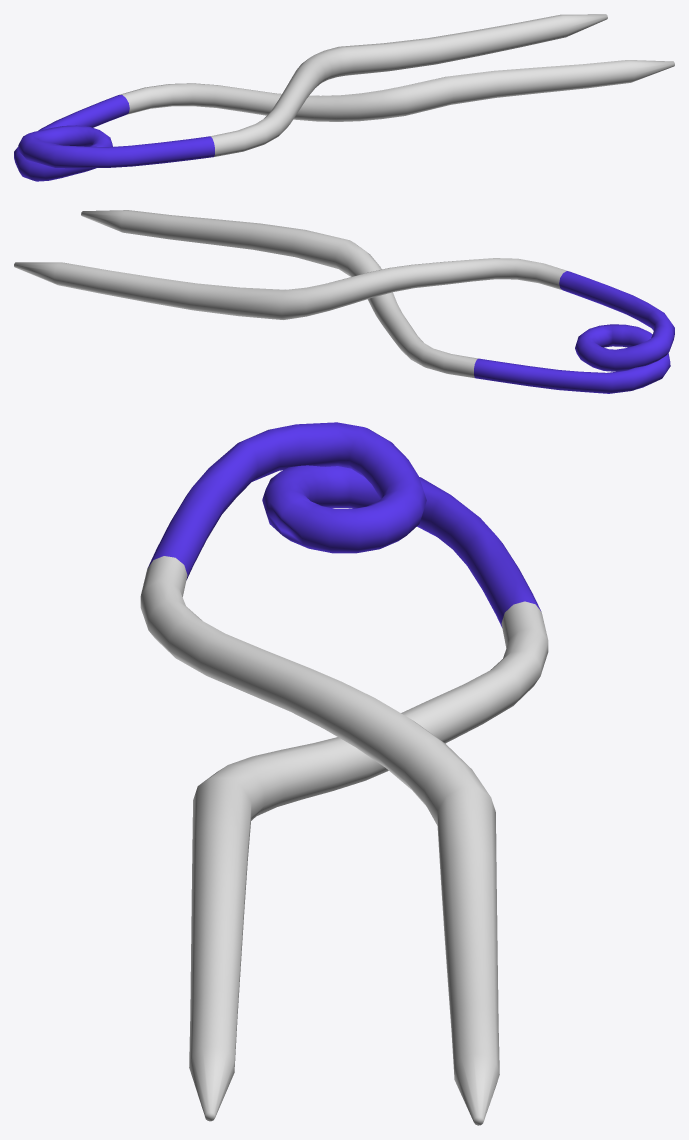
File: clip.fbx
The picture shows the model from 3 angles, top to bottom: view 1: azimuth 30°, elevation 25°; view 2: azimuth 150°, elevation 25°; view 3: azimuth 270°, elevation 25°; orthographic projection. The views are drawn at different scales.
Parts seen in each view (by area): view 1: Cylinder.007; view 2: Cylinder.007; view 3: Cylinder.007.
Part boxes in pixels (box(x1,y1,x2,y2)): Cylinder.007: box(14, 14, 674, 181); Cylinder.007: box(14, 210, 674, 393); Cylinder.007: box(140, 422, 548, 1125).
Bounding box in the file's own units: 445 × 43.6 × 127.
